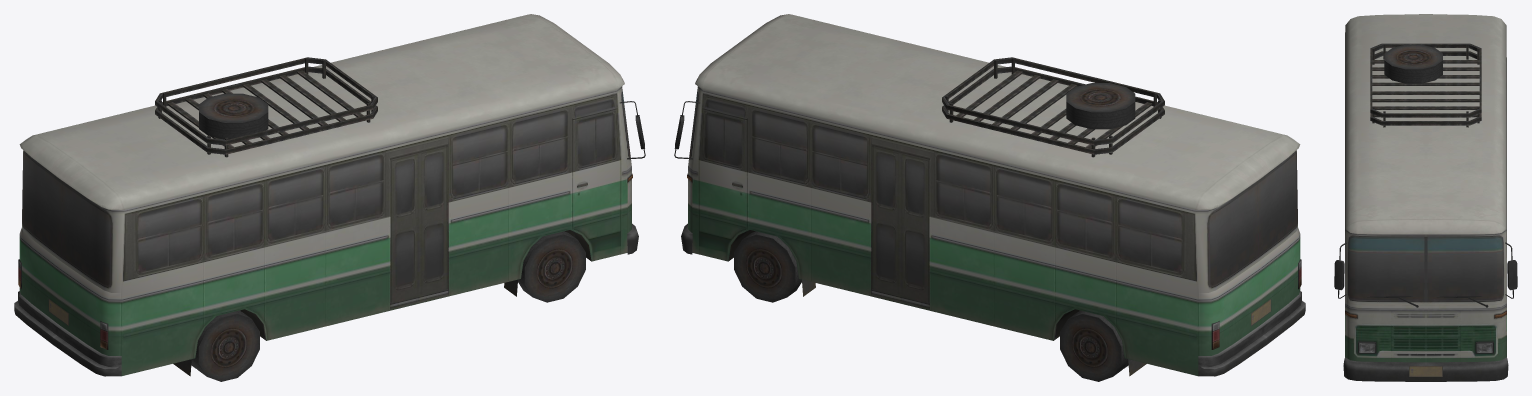
File: sf_bus_02.glb
3 views of the same model, side by side, from view 1: azimuth 30°, elevation 25°; view 2: azimuth 150°, elevation 25°; view 3: azimuth 270°, elevation 25° (orthographic). The views are drawn at different scales.
Visible parts, largest first — view 1: Traffic_Bus_02_Body, Traffic_Bus_Wheel_Front_R_1_Traffic_Bus_Component_1_0, Traffic_Bus_Wheel_Rear_R_1_Traffic_Bus_Component_1_0; view 2: Traffic_Bus_02_Body, Traffic_Bus_Wheel_Front_L_1_Traffic_Bus_Component_1_0, Traffic_Bus_Wheel_Rear_L_1_Traffic_Bus_Component_1_0; view 3: Traffic_Bus_02_Body, Traffic_Bus_02_Light.
Part boxes in pixels (x1,y1,x2,y2): Traffic_Bus_02_Body: (14, 14, 645, 376); Traffic_Bus_Wheel_Front_R_1_Traffic_Bus_Component_1_0: (518, 231, 585, 302); Traffic_Bus_Wheel_Rear_R_1_Traffic_Bus_Component_1_0: (191, 310, 259, 381); Traffic_Bus_02_Body: (674, 14, 1305, 376); Traffic_Bus_Wheel_Front_L_1_Traffic_Bus_Component_1_0: (734, 231, 801, 302); Traffic_Bus_Wheel_Rear_L_1_Traffic_Bus_Component_1_0: (1060, 310, 1128, 381); Traffic_Bus_02_Body: (1334, 14, 1517, 381); Traffic_Bus_02_Light: (1358, 341, 1493, 353).
Bounding box in the file's own units: 8.57 × 3.49 × 2.95.
Materials: 3 (3 with a texture image).
